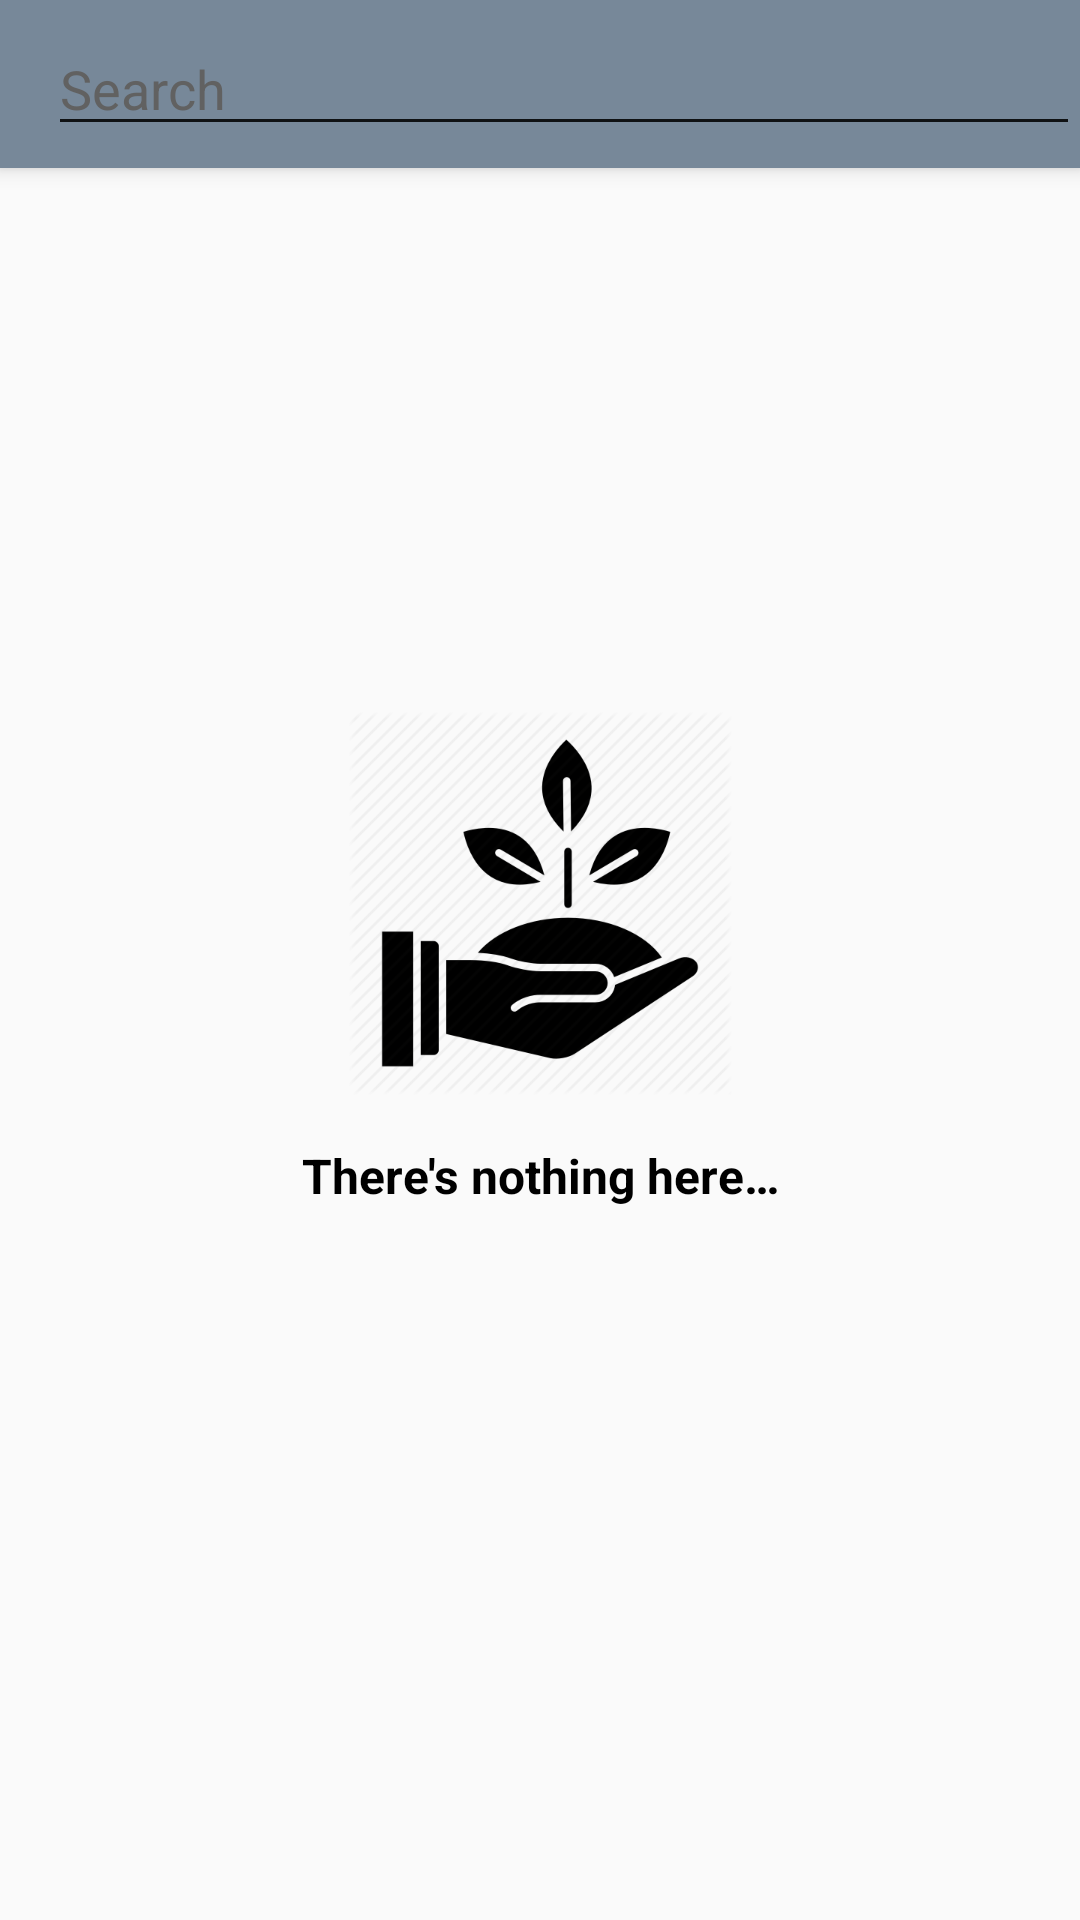

Locate icon controls on the screen. Image size 1080 x 1920, boxes as box=[x1, y1, x2, y2].
ecology: box=[381, 739, 698, 1067]
